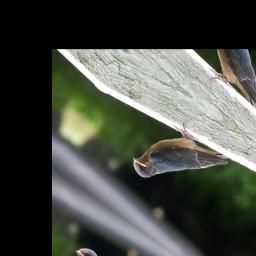Swallow: (127, 107, 234, 216)
